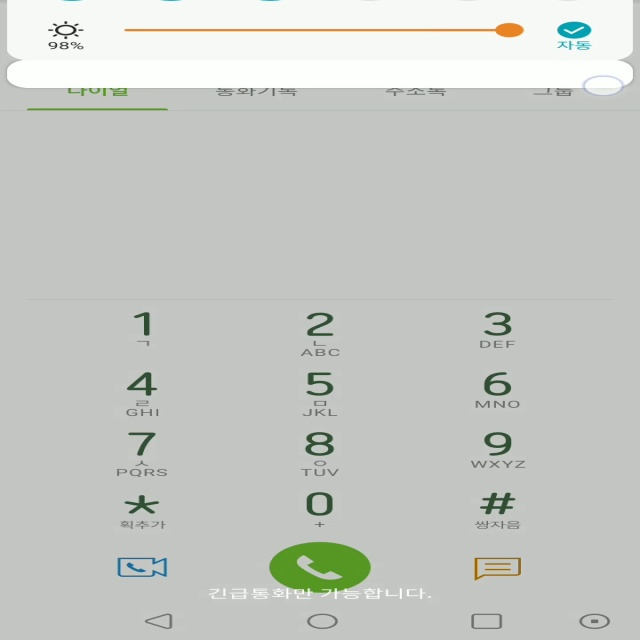Cursor: (582, 75, 626, 97)
